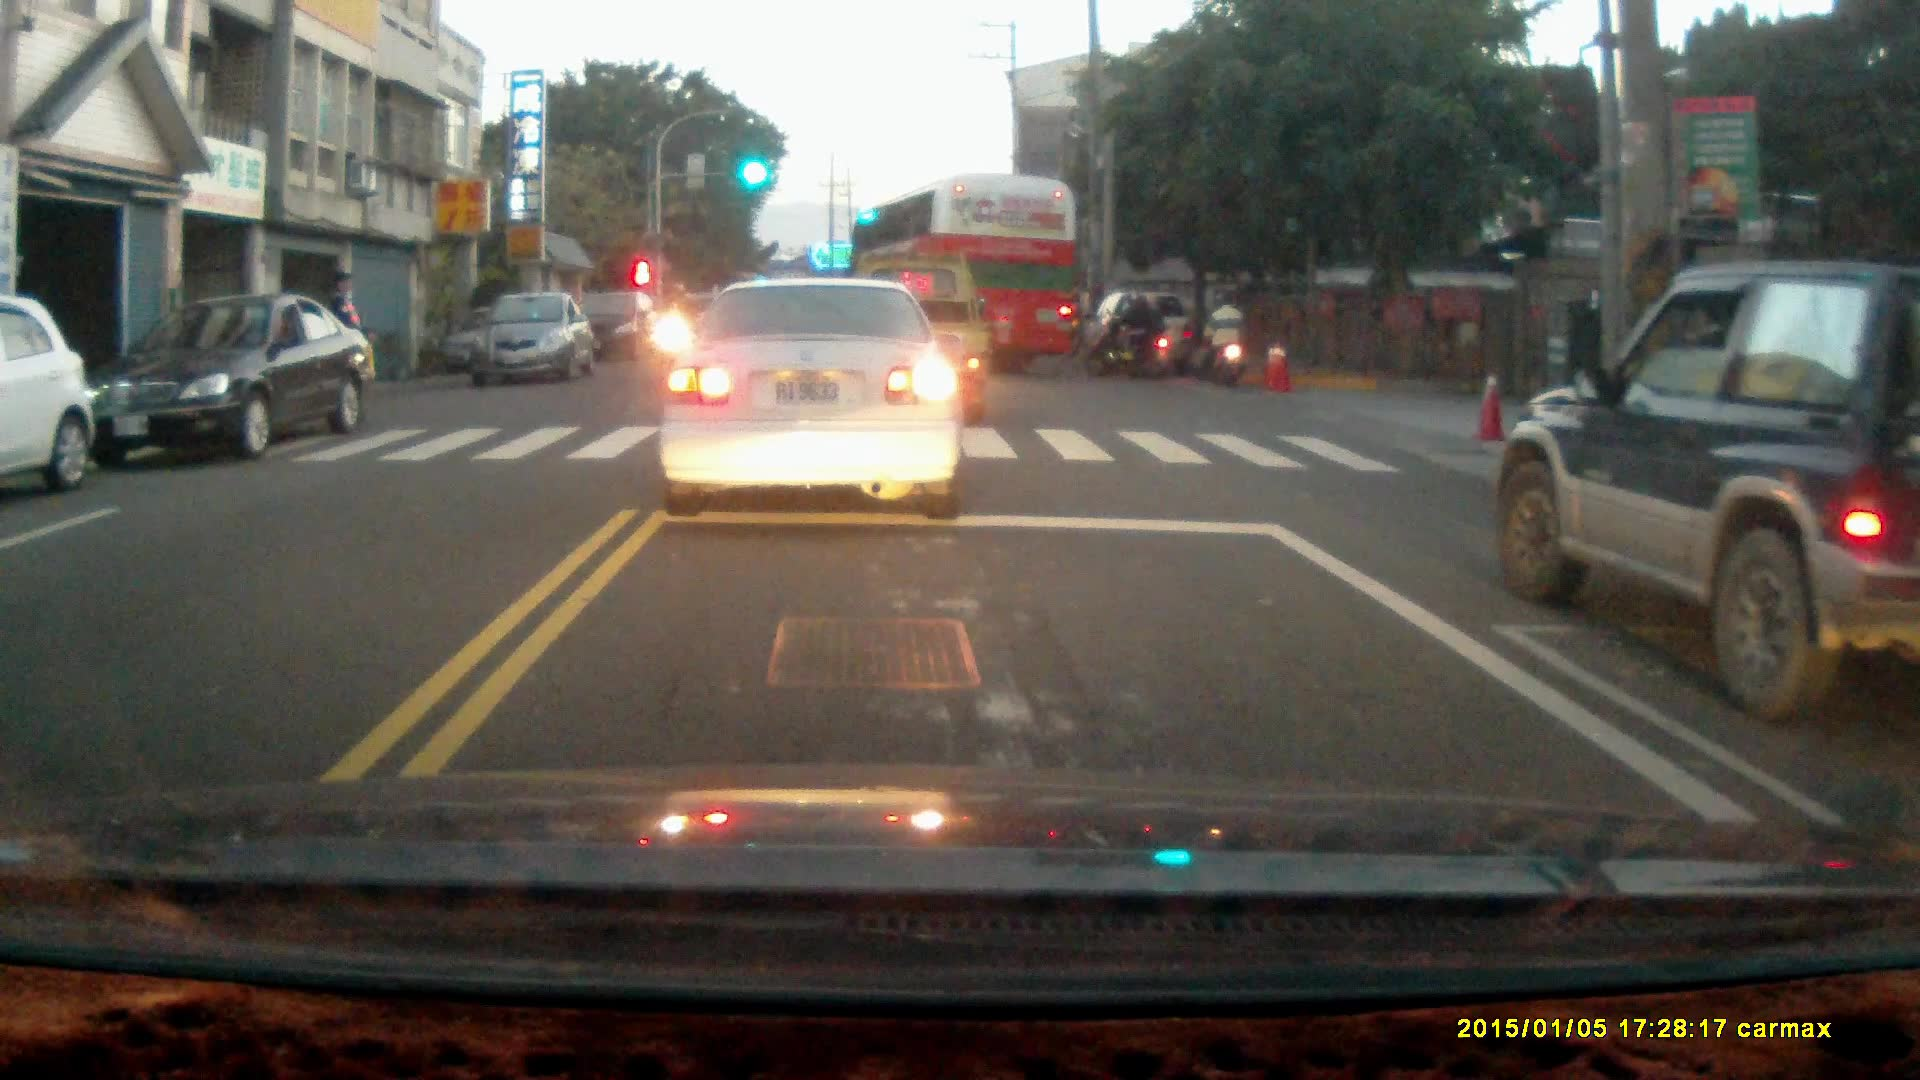pedestrian: (323, 269, 367, 418)
rider: (1089, 290, 1168, 379), (652, 279, 705, 386), (1192, 290, 1245, 390)
vehicle: (1498, 260, 1920, 721), (662, 278, 963, 526), (82, 297, 378, 470), (849, 171, 1081, 379), (1, 295, 99, 494), (459, 293, 600, 389), (1093, 290, 1211, 380), (573, 297, 665, 369)
